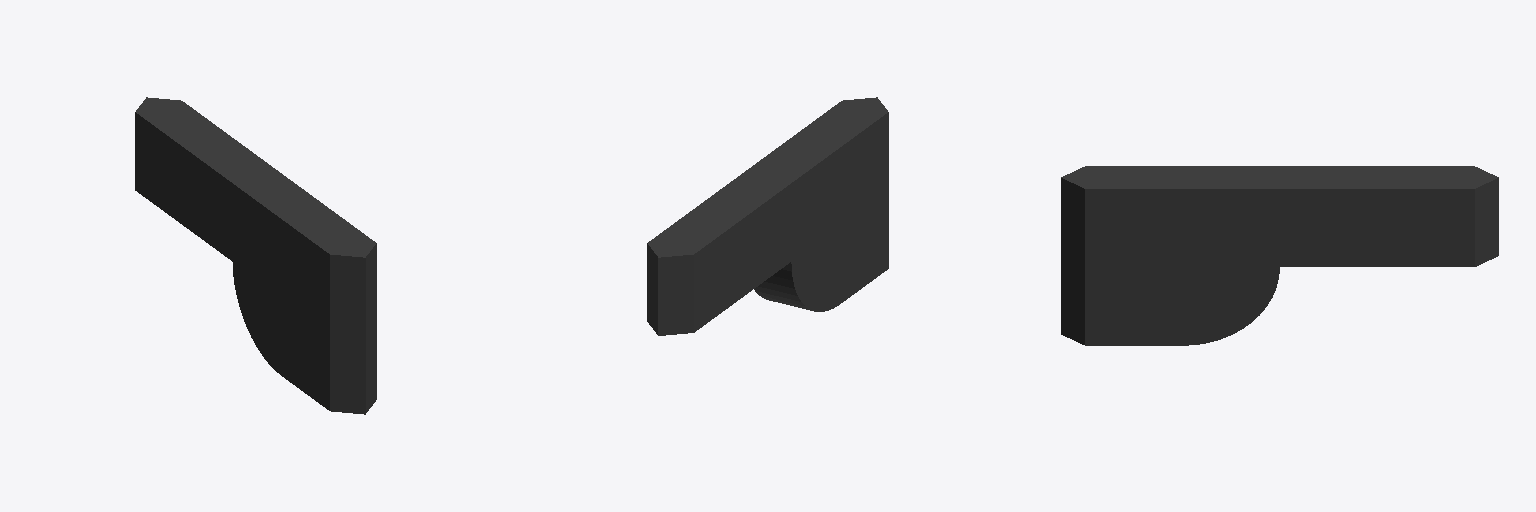
File: stock3.model.obj
3 views of the same model, side by side, from view 1: azimuth 30°, elevation 25°; view 2: azimuth 150°, elevation 25°; view 3: azimuth 270°, elevation 25° (orthographic).
Bounding box in the file's own units: 0.125 × 0.4 × 1.01.